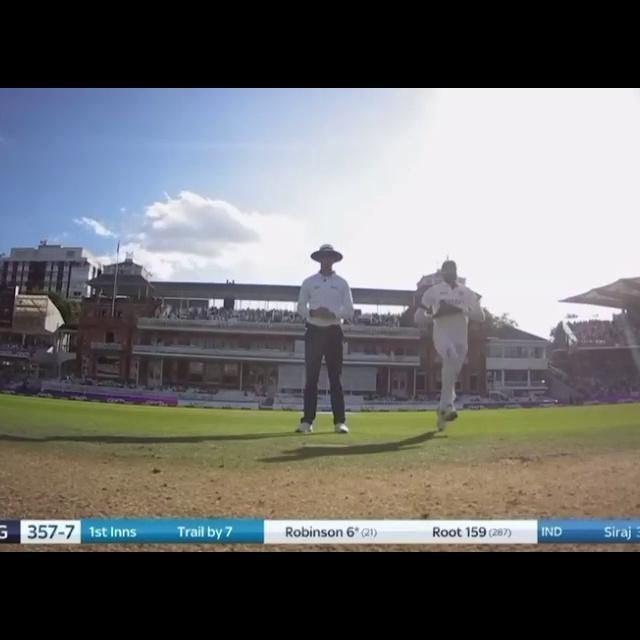umpire: (282, 234, 369, 437)
